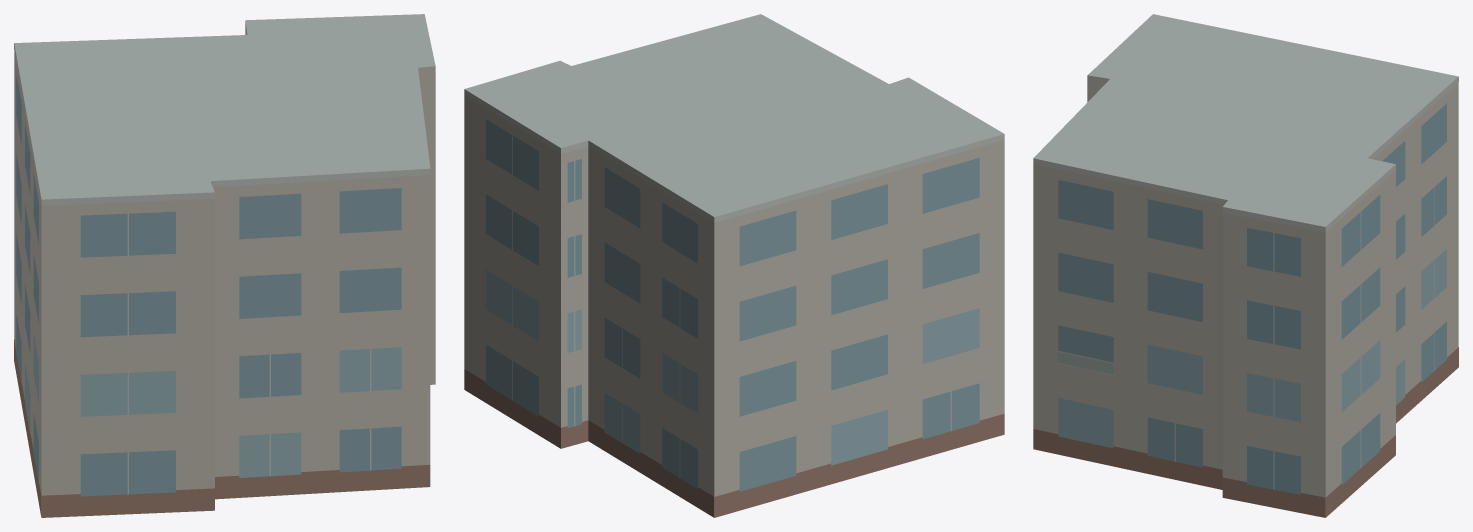
Rendered from survey-upis-32782998.glb.
3 renders of one model, left to right at view 1: azimuth 30°, elevation 25°; view 2: azimuth 150°, elevation 25°; view 3: azimuth 270°, elevation 25°, orthographic. The views are drawn at different scales.
Visible parts, largest first — view 1: survey-upis-32782998.tmp; view 2: survey-upis-32782998.tmp; view 3: survey-upis-32782998.tmp.
Boxes of the visible parts, x1=… form: survey-upis-32782998.tmp: x1=14, y1=14, x2=435, y2=517; survey-upis-32782998.tmp: x1=464, y1=14, x2=1004, y2=517; survey-upis-32782998.tmp: x1=1033, y1=14, x2=1458, y2=517.
Size of the model in its own units: 19.48 by 12.4 by 16.45.
